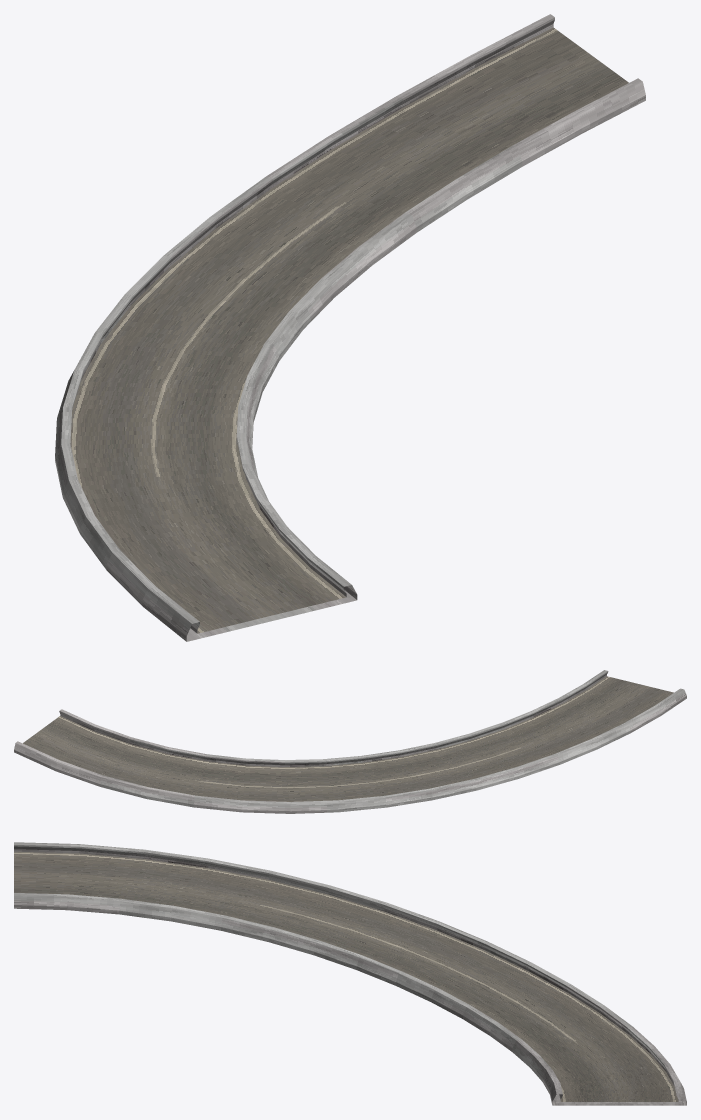
The model's file is turn-right5x5.glb.
The picture shows the model from 3 angles, top to bottom: view 1: azimuth 30°, elevation 25°; view 2: azimuth 150°, elevation 25°; view 3: azimuth 270°, elevation 25°; orthographic projection. The views are drawn at different scales.
Parts seen in each view (by area): view 1: road-Turn-Flat-BiSlopeUp-Up1-Right-Size5; view 2: road-Turn-Flat-BiSlopeUp-Up1-Right-Size5; view 3: road-Turn-Flat-BiSlopeUp-Up1-Right-Size5.
Boxes of the visible parts, x1,y1,x2,y2 form: road-Turn-Flat-BiSlopeUp-Up1-Right-Size5: [55, 14, 645, 641]; road-Turn-Flat-BiSlopeUp-Up1-Right-Size5: [14, 670, 686, 813]; road-Turn-Flat-BiSlopeUp-Up1-Right-Size5: [14, 842, 686, 1105].
Bounding box in the file's own units: 5 × 0.482 × 5.
Materials: 2 (2 with a texture image).
